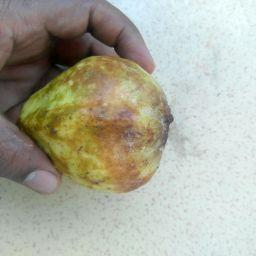guava: (19, 51, 175, 197)
